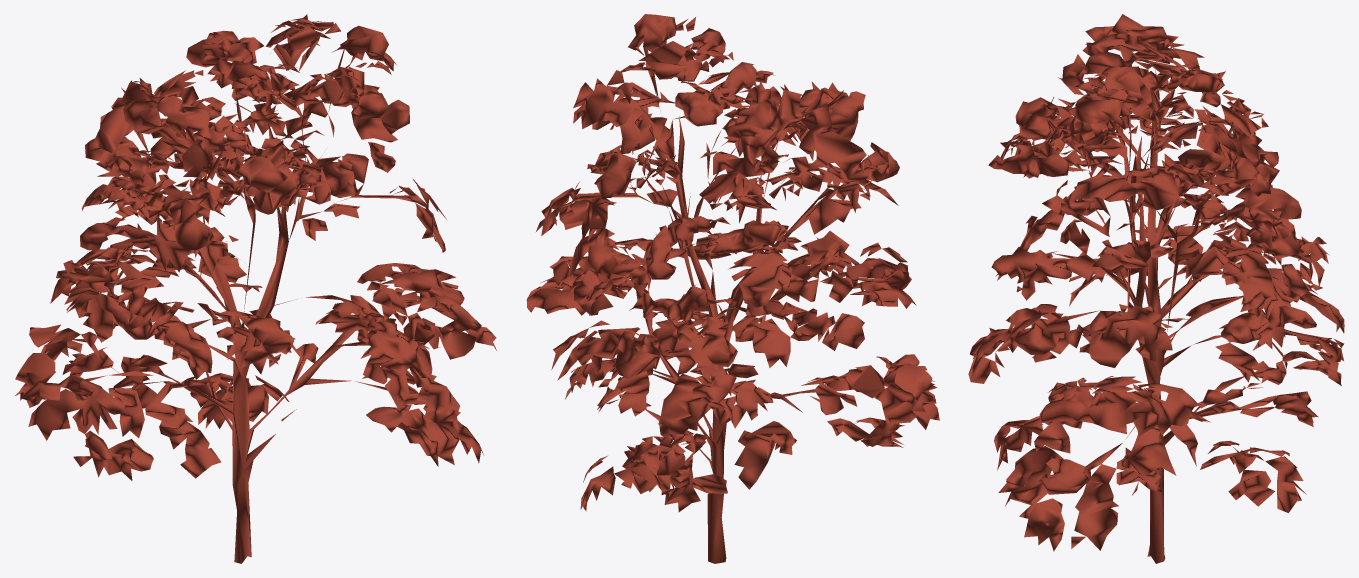
File: hlg-sorbus.glb
3 views of the same model, side by side, from view 1: azimuth 30°, elevation 25°; view 2: azimuth 150°, elevation 25°; view 3: azimuth 270°, elevation 25° (orthographic). The views are drawn at different scales.
Parts seen in each view (by area): view 1: geometry_0; view 2: geometry_0; view 3: geometry_0.
Boxes of the visible parts, x1,y1,x2,y2 form: geometry_0: (15,14,496,563); geometry_0: (526,14,939,563); geometry_0: (968,14,1344,563).
Size of the model in its own units: 167558 by 196457 by 132626.
1 material, 1 textured.
